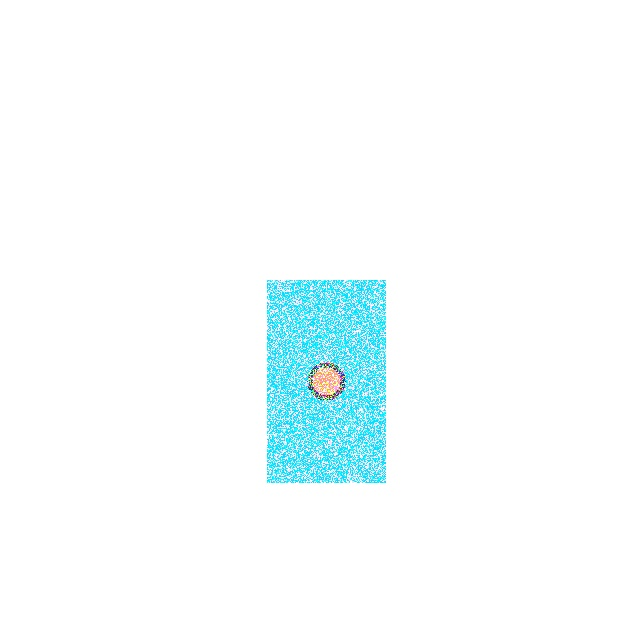Videoprojecteur: (267, 280, 385, 483)
